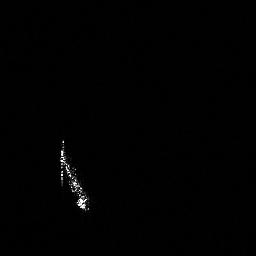ship: (55, 137, 95, 212)
